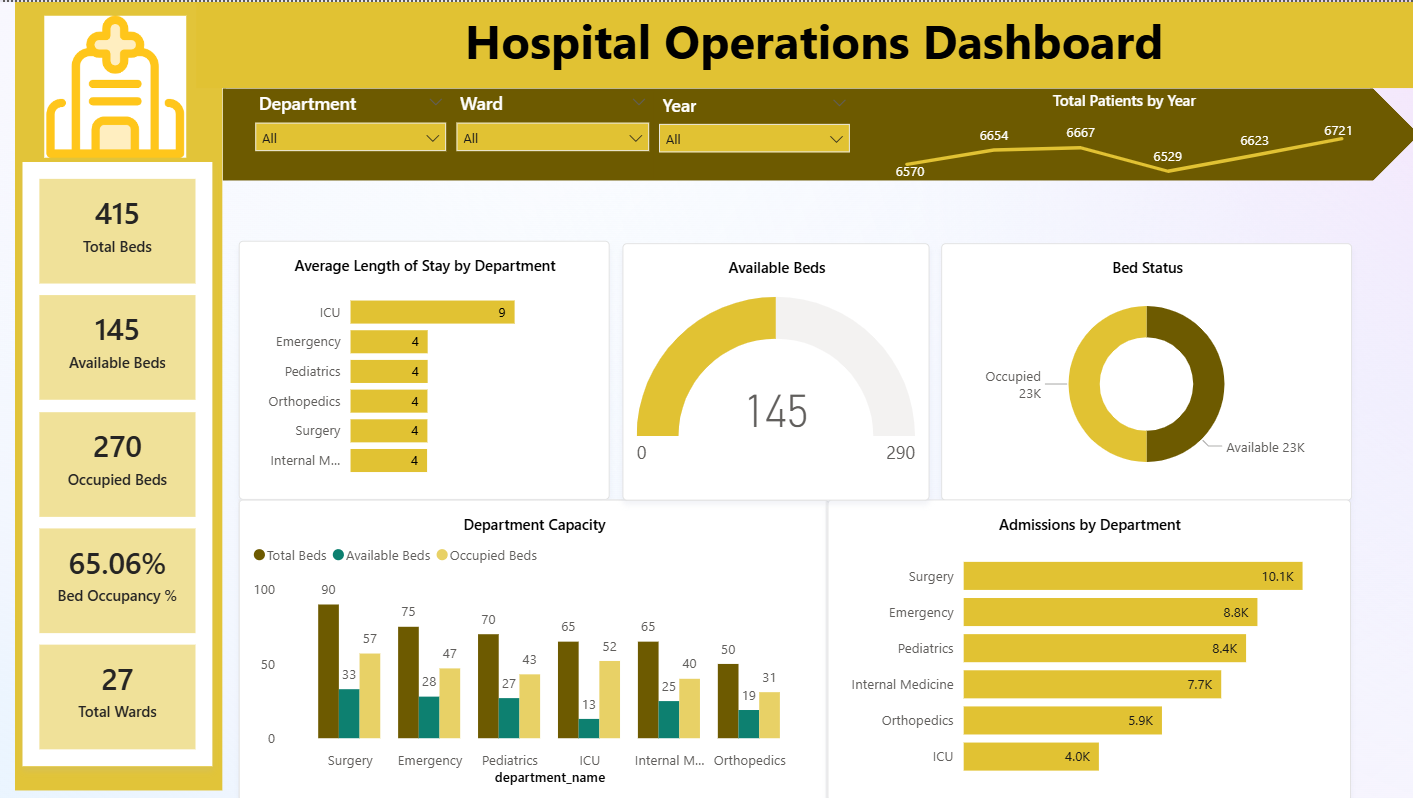

Layout of this report page (visuals, bound fields, positions):
{"tool":"powerbi","page":{"name":"Hospital Operations","canvas":[1280,720],"ordinal":2},"visuals":[{"type":"shape","box":[13.7,0,187.1,711.1],"z":0},{"type":"shape","box":[200.9,77.3,1079.1,83.6],"z":1000},{"type":"textbox","box":[177.2,0,1102.8,77.3],"z":2000},{"type":"cardVisual","fields":{"Data":["Sum(ward.total_beds)","admission.Available Beds","admission.Occupied Beds","admission.Bed Occupancy %","admission.Total Wards"]},"box":[20.3,144.5,171.5,545.6],"z":3000},{"type":"donutChart","title":"Bed Status","fields":{"Category":["bed.bed_status"],"Y":["admission.Total Patients"]},"box":[848.3,217.1,370.5,232],"z":4000},{"type":"slicer","fields":{"Values":["department.department_name"]},"box":[225,80,181.7,78.3],"z":5000},{"type":"slicer","fields":{"Values":["ward.ward_type"]},"box":[406.7,80,183.3,78.3],"z":6000},{"type":"barChart","title":"Average Length of Stay by Department","fields":{"Y":["admission.Average length of stay"],"Category":["department.department_name"]},"box":[215.8,215.8,334.3,233.3],"z":7000},{"type":"clusteredColumnChart","title":"Department Capacity","fields":{"Category":["department.department_name"],"Y":["Sum(ward.total_beds)","admission.Available Beds","admission.Occupied Beds"]},"box":[215,448.3,531.7,271.7],"z":8000},{"type":"barChart","title":"Admissions by Department","fields":{"Y":["admission.Total Admission"],"Category":["department.department_name"]},"box":[746.7,448.3,471.7,271.7],"z":9000},{"type":"lineChart","fields":{"Category":["Date.Date.Variation.Date Hierarchy.Year","Date.Date.Variation.Date Hierarchy.Quarter","Date.Date.Variation.Date Hierarchy.Month","Date.Date.Variation.Date Hierarchy.Day"],"Y":["admission.Total Patients"]},"box":[795.4,67.5,436.2,102.6],"z":10000},{"type":"gauge","fields":{"Y":["admission.Available Beds"]},"box":[560.8,217.1,277,232],"z":11000},{"type":"slicer","fields":{"Values":["Date.Year"]},"box":[590,81.7,181.7,78.3],"z":12000},{"type":"image","box":[13.5,12.2,181,128.3],"z":13000}]}

Visuals, with their boxes in screenshot pixels (x1, y1, x2, y2), scaled from the page's 1280x720 canvas onto the 1413x798 screenshot:
shape: (x1=15, y1=0, x2=222, y2=788)
shape: (x1=222, y1=86, x2=1412, y2=178)
textbox: (x1=196, y1=0, x2=1412, y2=86)
cardVisual - Sum(ward.total_beds) x admission.Available Beds: (x1=22, y1=160, x2=212, y2=765)
"Bed Status" donutChart: (x1=936, y1=241, x2=1345, y2=498)
slicer - department.department_name: (x1=248, y1=89, x2=449, y2=175)
slicer - ward.ward_type: (x1=449, y1=89, x2=651, y2=175)
"Average Length of Stay by Department" barChart: (x1=238, y1=239, x2=607, y2=498)
"Department Capacity" clusteredColumnChart: (x1=237, y1=497, x2=824, y2=797)
"Admissions by Department" barChart: (x1=824, y1=497, x2=1345, y2=797)
lineChart - Date.Date.Variation.Date Hierarchy.Year x Date.Date.Variation.Date Hierarchy.Quarter: (x1=878, y1=75, x2=1360, y2=189)
gauge - admission.Available Beds: (x1=619, y1=241, x2=925, y2=498)
slicer - Date.Year: (x1=651, y1=91, x2=852, y2=177)
image: (x1=15, y1=14, x2=215, y2=156)
